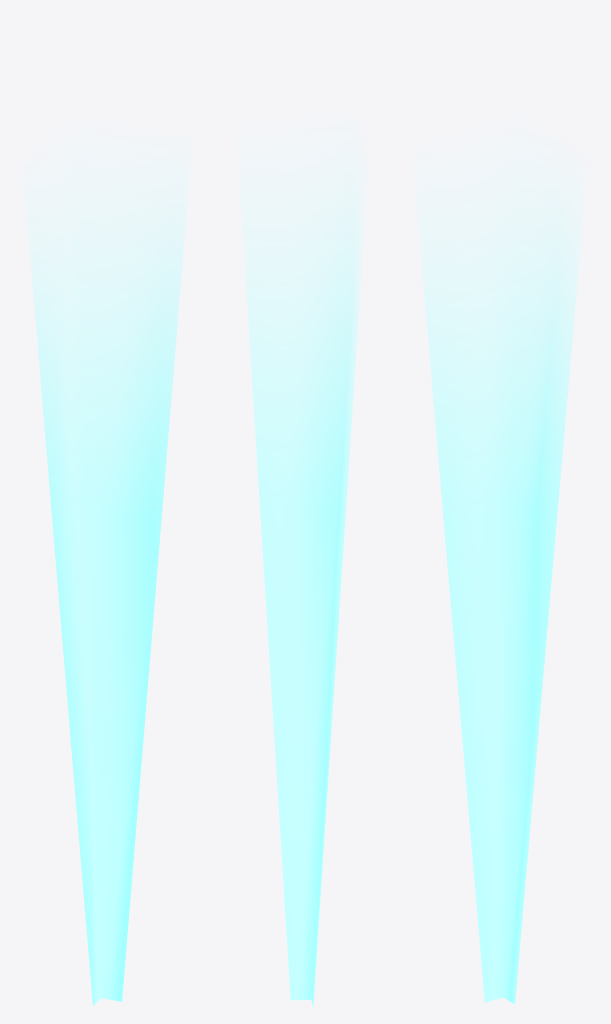
Rendered from luxor-light.glb.
The picture shows the model from 3 angles, left to right: view 1: azimuth 30°, elevation 25°; view 2: azimuth 150°, elevation 25°; view 3: azimuth 270°, elevation 25°; orthographic projection.
Parts seen in each view (by area): view 1: LuxorLight; view 2: LuxorLight; view 3: LuxorLight.
Boxes of the visible parts, <box> form: LuxorLight: <box>29,190,185,1005</box>; LuxorLight: <box>241,190,362,1008</box>; LuxorLight: <box>418,190,581,1004</box>.
Size of the model in its own units: 69.41 by 382 by 70.46.
Materials: 1 (1 with a texture image).
